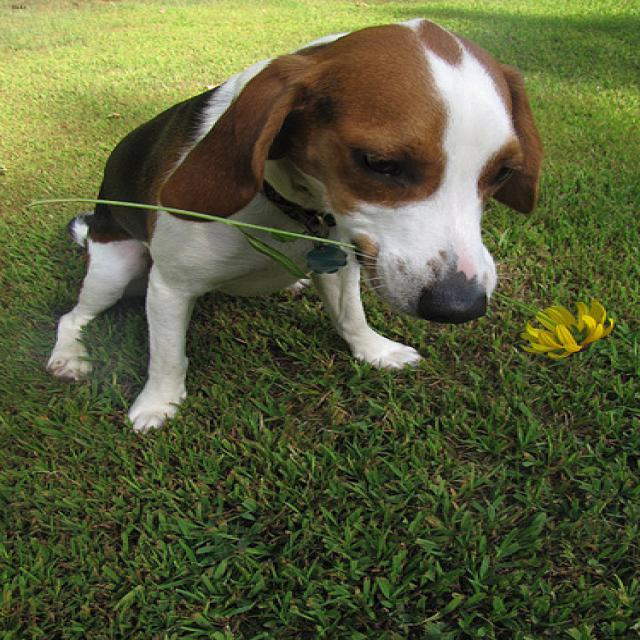dog-beagle: (36, 10, 560, 443)
